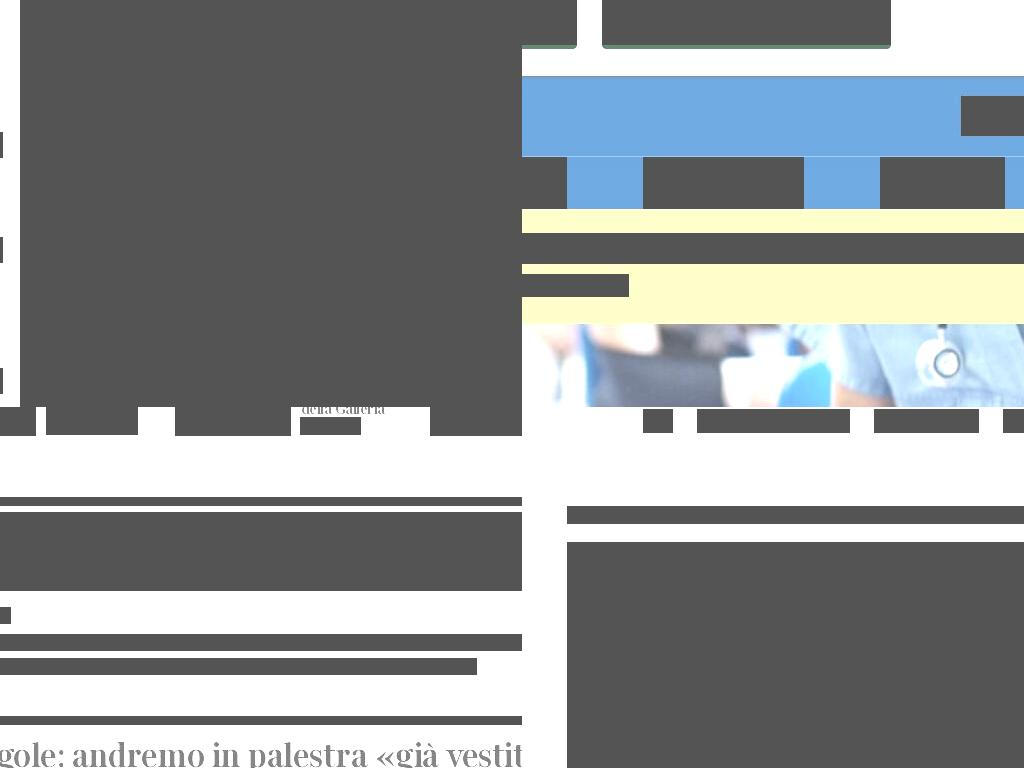button: (567, 542, 1024, 768), (164, 73, 310, 183), (309, 73, 455, 183), (164, 290, 310, 400), (309, 290, 455, 400), (20, 73, 165, 183), (20, 290, 165, 400), (164, 182, 310, 291), (309, 182, 455, 291), (20, 182, 165, 291), (602, 0, 891, 45), (164, 0, 310, 74), (309, 0, 455, 74), (20, 0, 165, 74), (643, 157, 804, 209), (0, 658, 477, 675), (454, 73, 522, 183), (454, 290, 522, 400), (454, 182, 522, 291), (880, 157, 1005, 209), (454, 0, 522, 74), (697, 409, 850, 433), (175, 407, 291, 436), (430, 407, 522, 436), (874, 409, 979, 433), (522, 157, 567, 209), (643, 409, 673, 433), (1003, 409, 1024, 433)
field: (961, 96, 1024, 136)
heading: (0, 512, 522, 553), (0, 550, 522, 591), (0, 735, 522, 768), (522, 233, 1024, 264), (567, 506, 1024, 524), (46, 407, 138, 435), (300, 417, 361, 435), (300, 407, 385, 418)
image: (567, 542, 1024, 768), (164, 73, 310, 183), (309, 73, 455, 183), (164, 290, 310, 400), (309, 290, 455, 400), (20, 73, 165, 183), (20, 290, 165, 400), (164, 182, 310, 291), (309, 182, 455, 291), (20, 182, 165, 291), (164, 0, 310, 74), (309, 0, 455, 74), (20, 0, 165, 74), (454, 73, 522, 183), (454, 290, 522, 400), (454, 182, 522, 291), (454, 0, 522, 74), (175, 407, 291, 436), (430, 407, 522, 436)
link: (0, 634, 522, 651), (522, 274, 629, 297)
text: (0, 658, 343, 675), (0, 497, 522, 506), (0, 716, 522, 725), (659, 173, 788, 193), (343, 659, 477, 675), (896, 173, 989, 193), (522, 173, 551, 193)
